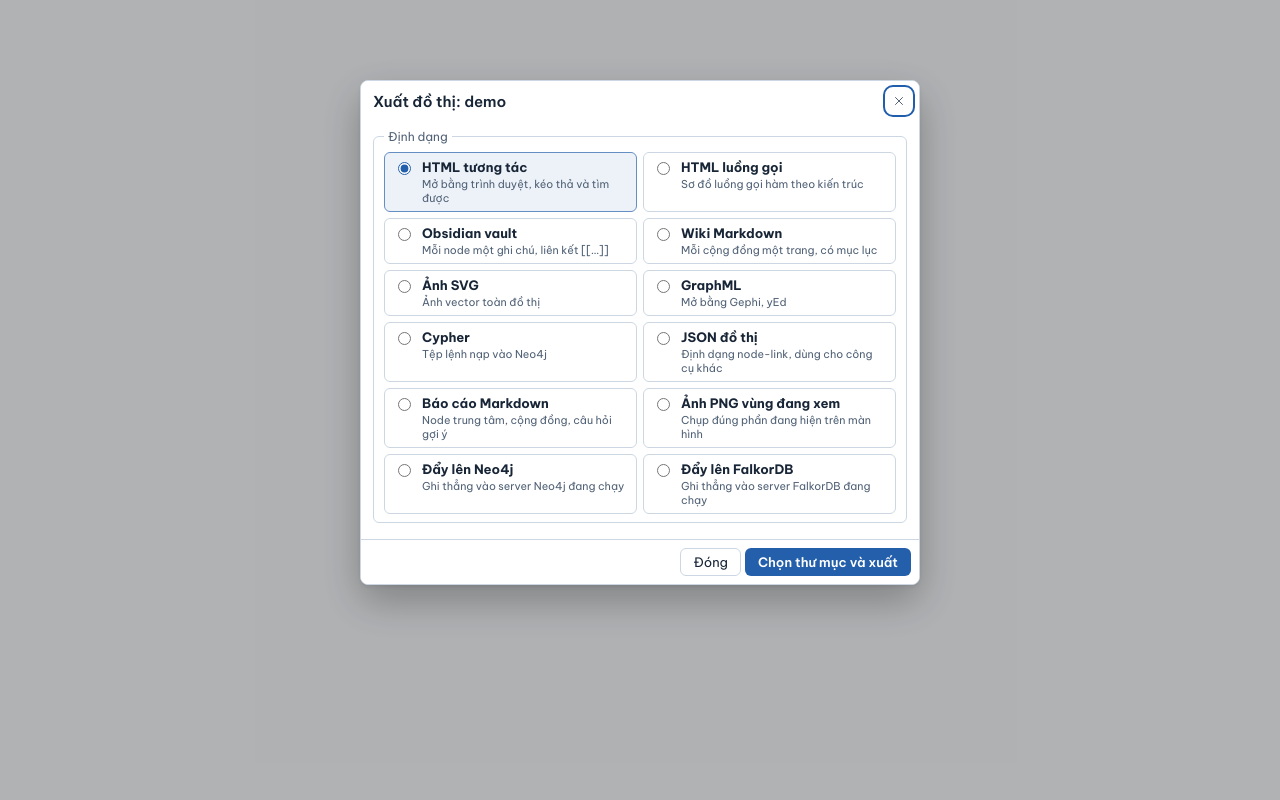
Test: ExportDialog › PNG chụp vùng đang xem, không chụp chính hộp thoại
The width and height of the screenshot is (1280, 800).
Click the radio button labelled "Ảnh PNG vùng đang xem": coordinates (664, 404) 657,398 -> 670,411
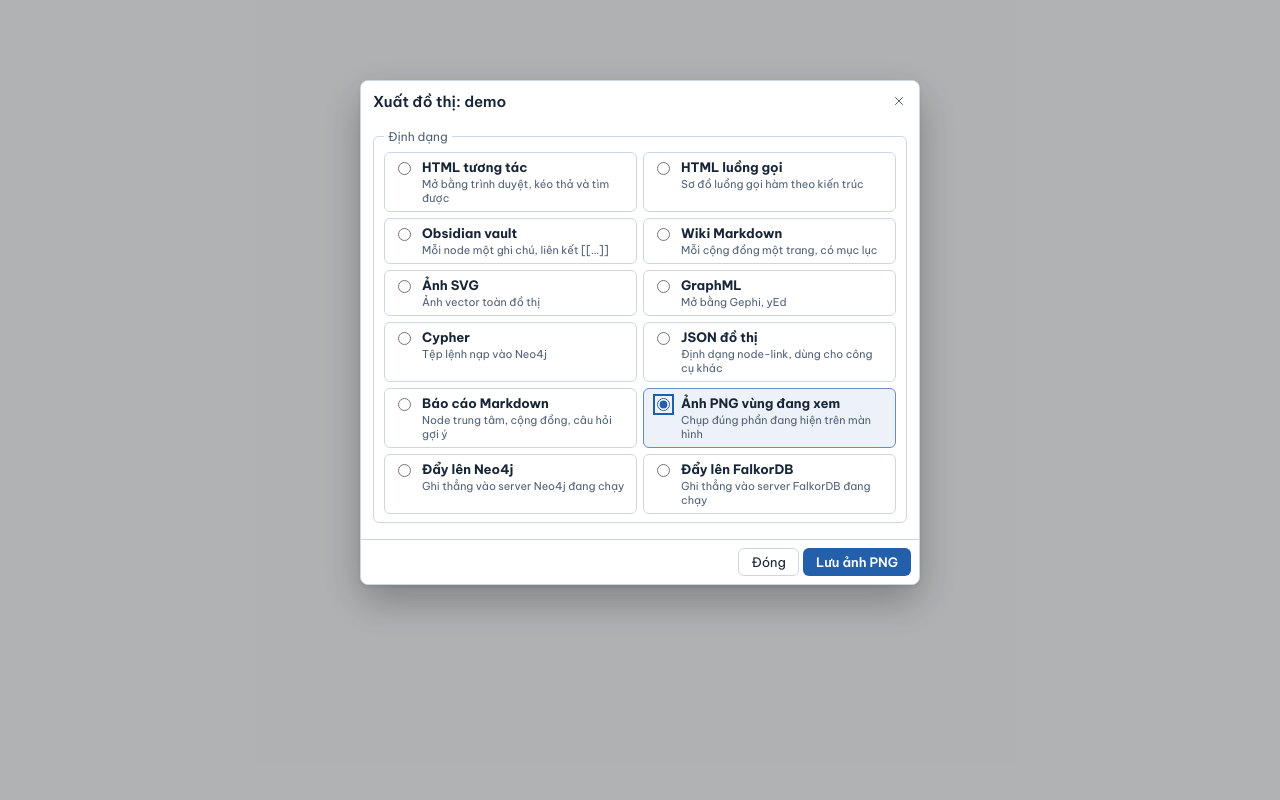
Click the button "Lưu ảnh PNG": coordinates (857, 562) 803,548 -> 911,576
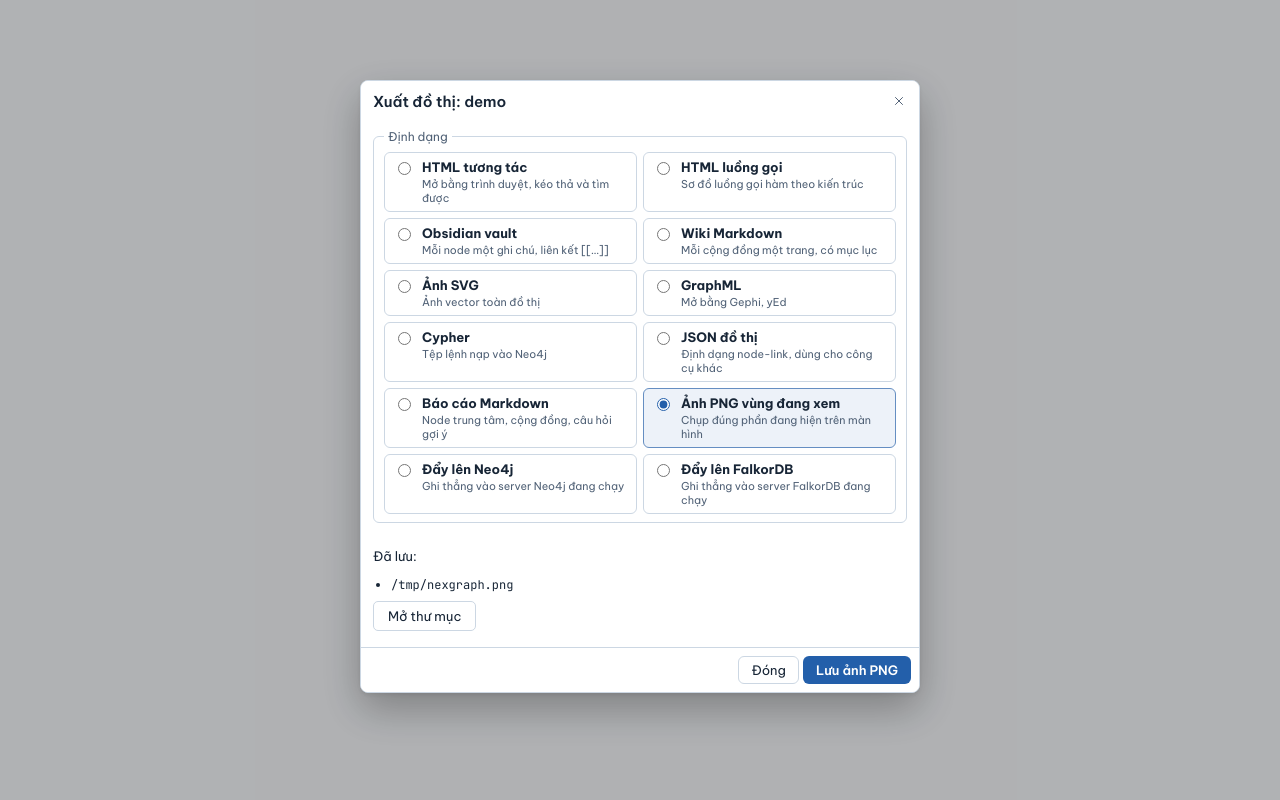
Result: the list item "/tmp/nexgraph.png" is shown at 391,577 -> 513,593
